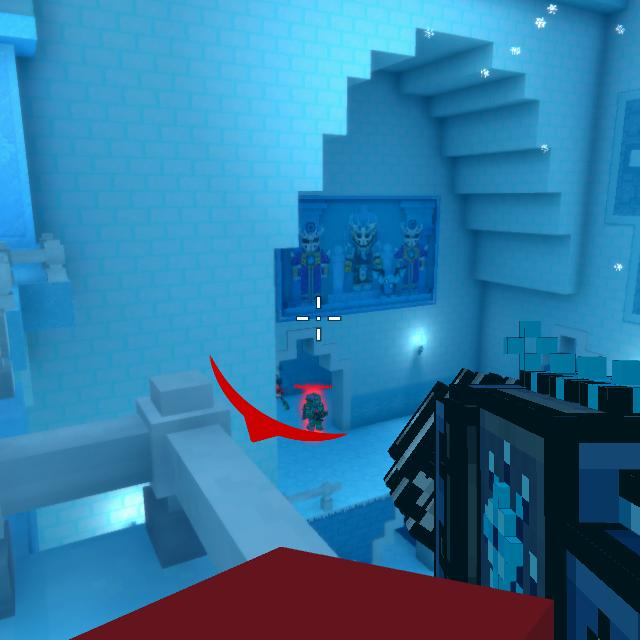Enemy: (302, 391, 328, 432)
